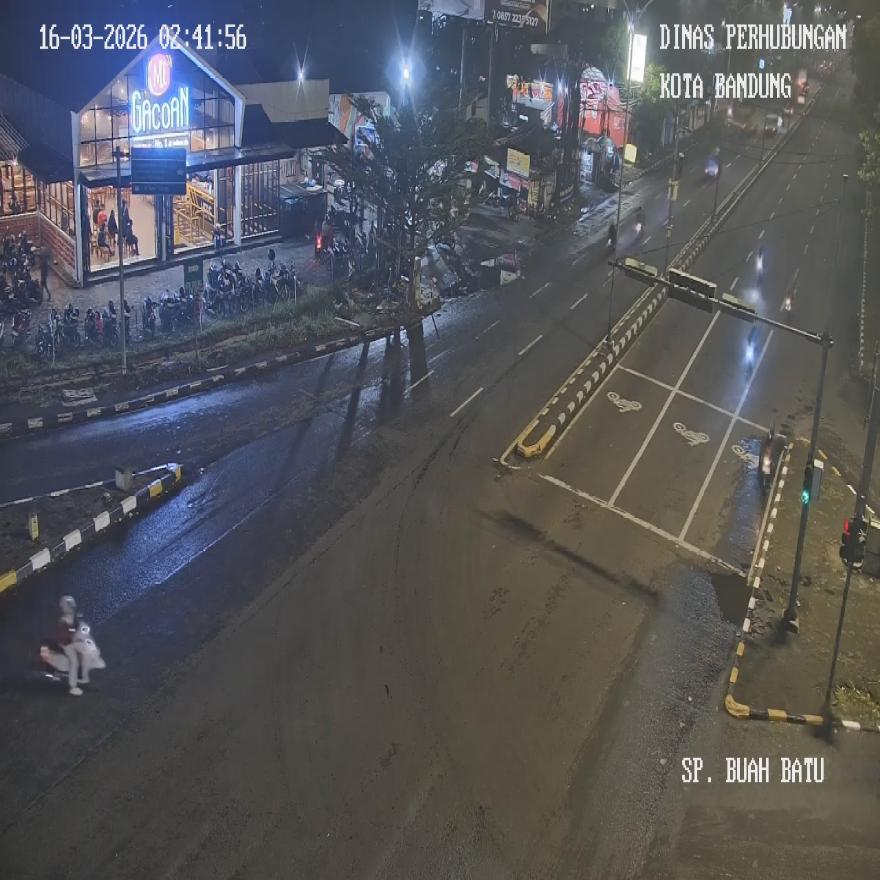Motor: (39, 618, 104, 689), (757, 428, 776, 490), (58, 303, 80, 350), (11, 308, 33, 348), (83, 306, 103, 347), (142, 294, 156, 339), (634, 205, 644, 242), (606, 221, 616, 251)
